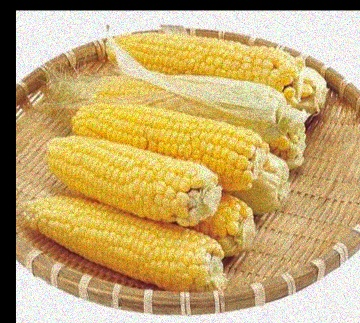corn: (22, 193, 225, 292), (69, 103, 270, 191), (41, 133, 223, 229), (109, 32, 302, 102)
